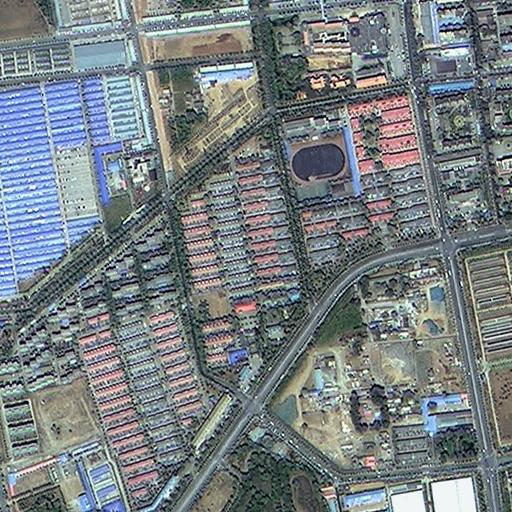school: (273, 102, 365, 207)
